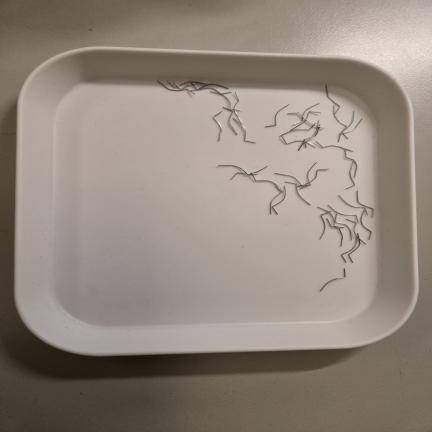probe: (320, 268, 346, 292), (265, 104, 289, 127), (213, 111, 222, 141)
